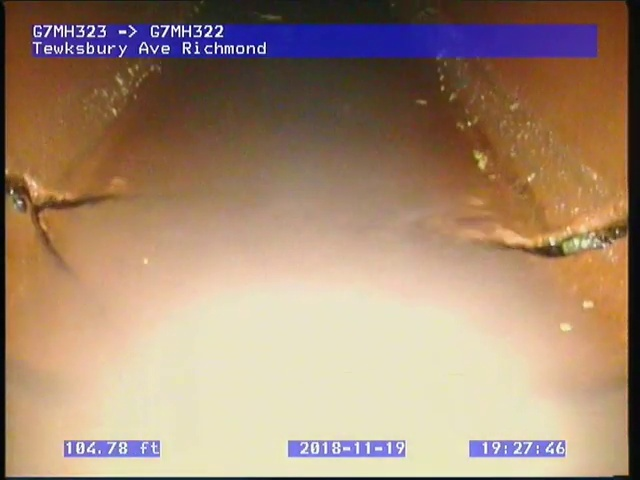crack: (3, 167, 134, 287), (493, 213, 627, 261)
